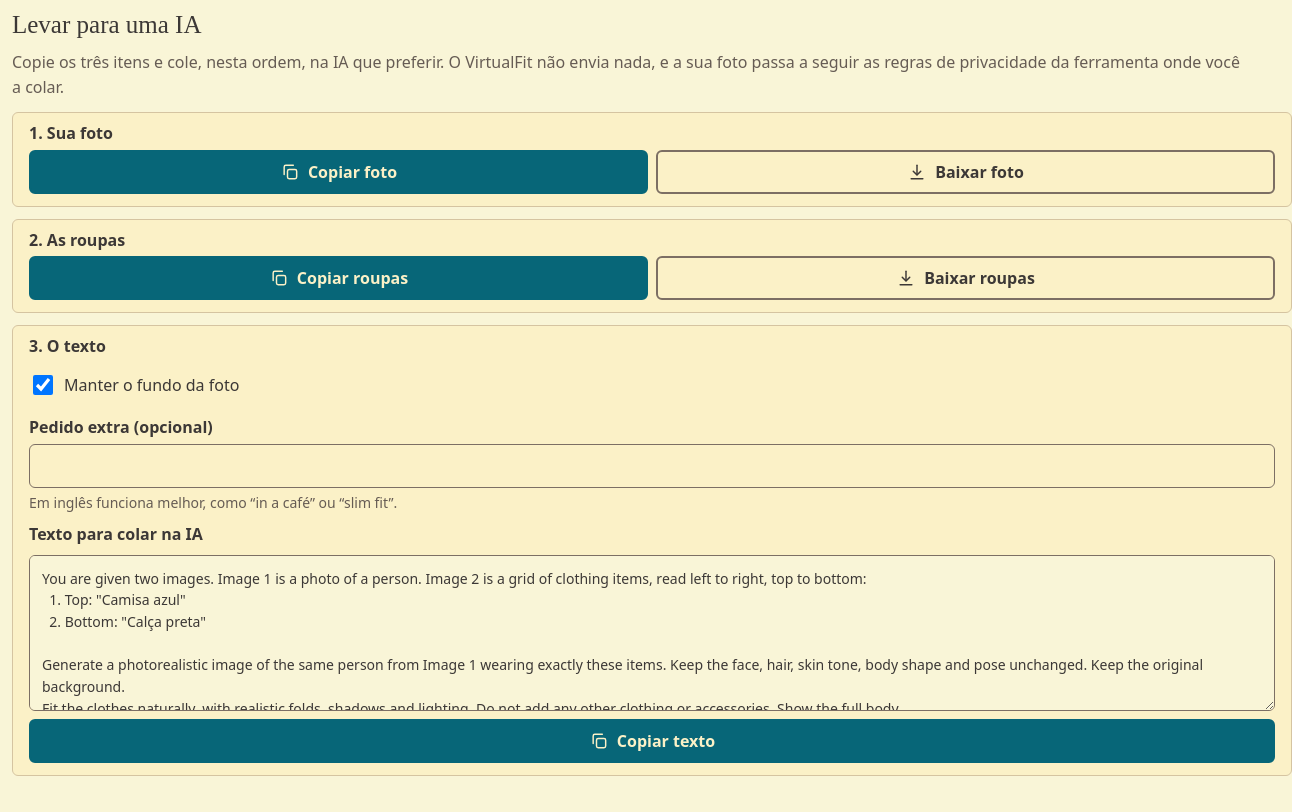
Test: OutfitOutput: imagem sem arquivo › explica o que fazer quando o arquivo de uma peça não existe mais
What coordinates should you click on to do the following:
click the button "Copiar roupas"
I would click on:
 (338, 278)
Its box is [29, 256, 648, 300].
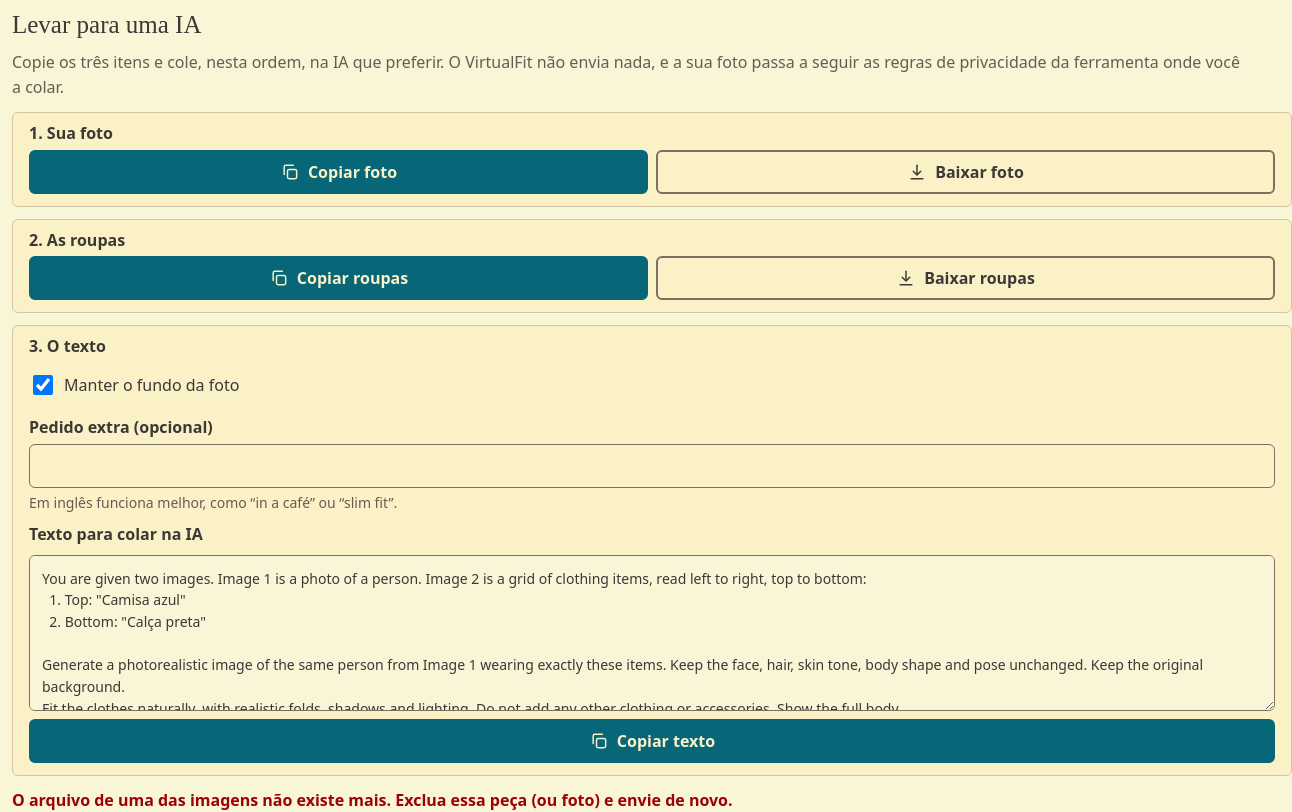
Now the message shows "O arquivo de uma das imagens não existe mais. Exclua essa peça", box [12, 789, 733, 811]
